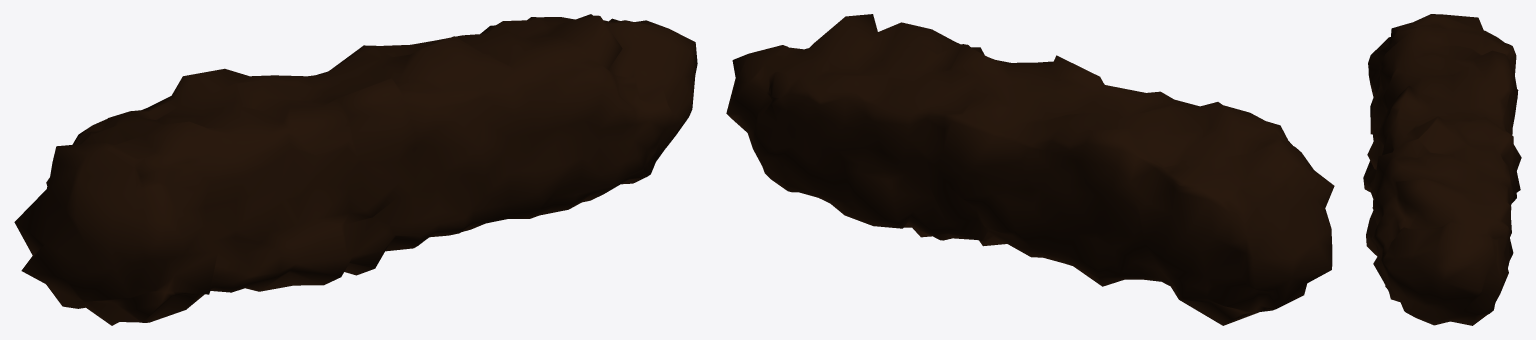
The model's file is SM_Barnacle_Rock_02.dae.
3 views of the same model, side by side, from view 1: azimuth 30°, elevation 25°; view 2: azimuth 150°, elevation 25°; view 3: azimuth 270°, elevation 25° (orthographic). The views are drawn at different scales.
Parts seen in each view (by area): view 1: SM_Barnacle_Rock_02_LOD0; view 2: SM_Barnacle_Rock_02_LOD0; view 3: SM_Barnacle_Rock_02_LOD0.
Part boxes in pixels (bbox=[...]): SM_Barnacle_Rock_02_LOD0: bbox=[14, 14, 697, 325]; SM_Barnacle_Rock_02_LOD0: bbox=[726, 14, 1334, 325]; SM_Barnacle_Rock_02_LOD0: bbox=[1363, 14, 1521, 325].
Size of what is drawn, in the model's own units: 186 by 56.16 by 50.71.
